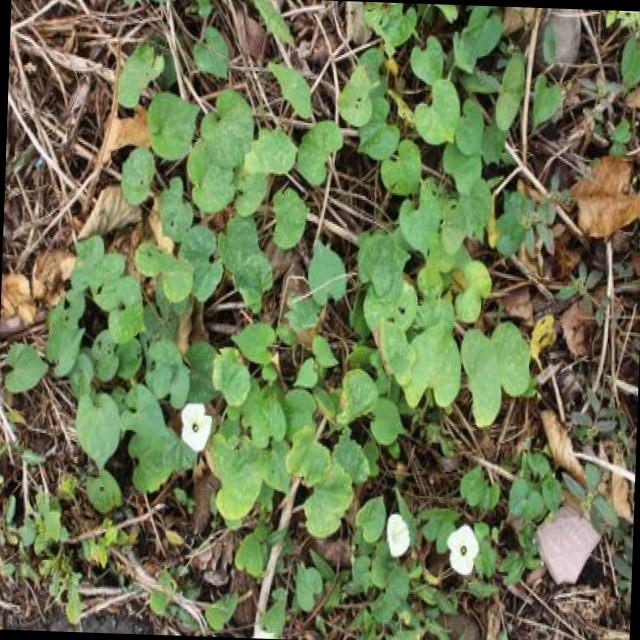ipomoea: (174, 396, 215, 459), (440, 520, 482, 580), (380, 508, 414, 565)
